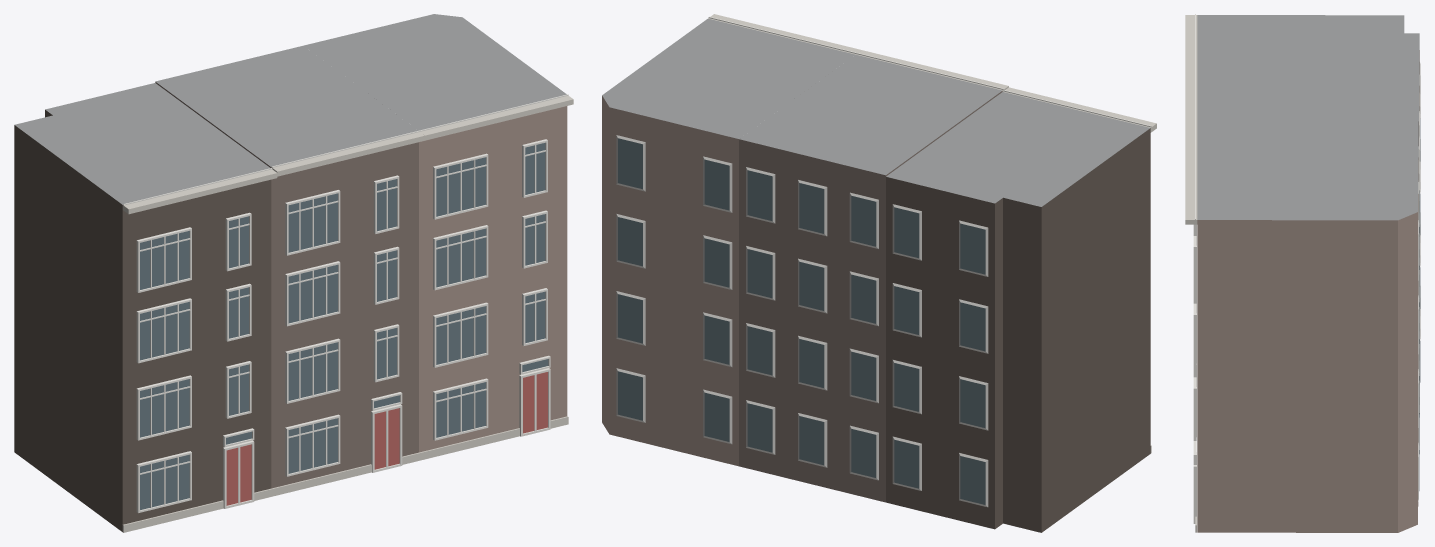
The model's file is chunk-face-retief-194-268-r2.glb.
3 views of the same model, side by side, from view 1: azimuth 30°, elevation 25°; view 2: azimuth 150°, elevation 25°; view 3: azimuth 270°, elevation 25° (orthographic). The views are drawn at different scales.
Parts seen in each view (by area): view 1: face-retief-194-268-r2; view 2: face-retief-194-268-r2; view 3: face-retief-194-268-r2.
Boxes of the visible parts, x1,y1,x2,y2 form: face-retief-194-268-r2: (14, 14, 573, 532); face-retief-194-268-r2: (602, 14, 1156, 532); face-retief-194-268-r2: (1185, 14, 1420, 532).
Bounding box in the file's own units: 18.55 × 13.12 × 8.92.
